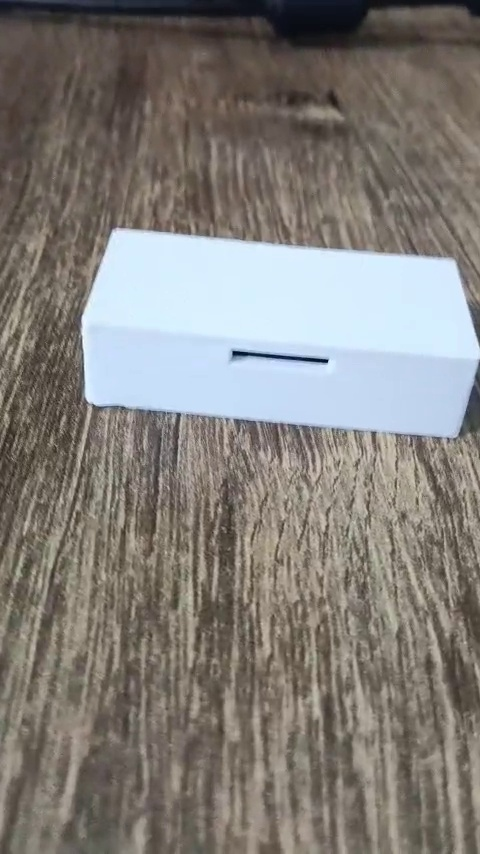enclosure: (79, 227, 480, 438)
